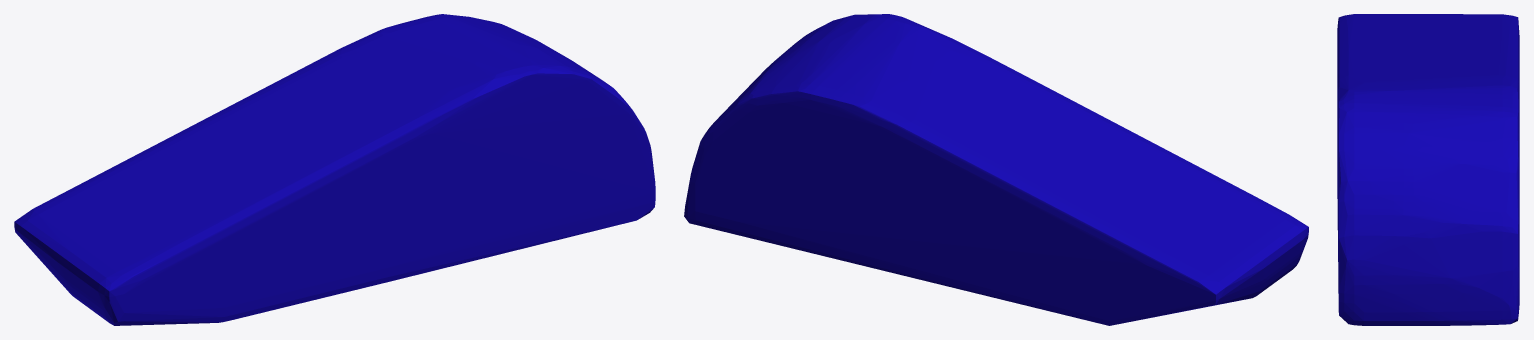
3 views of the same model, side by side, from view 1: azimuth 30°, elevation 25°; view 2: azimuth 150°, elevation 25°; view 3: azimuth 270°, elevation 25° (orthographic). The views are drawn at different scales.
Size of the model in its own units: 0.1561 by 0.0476 by 0.0471.
